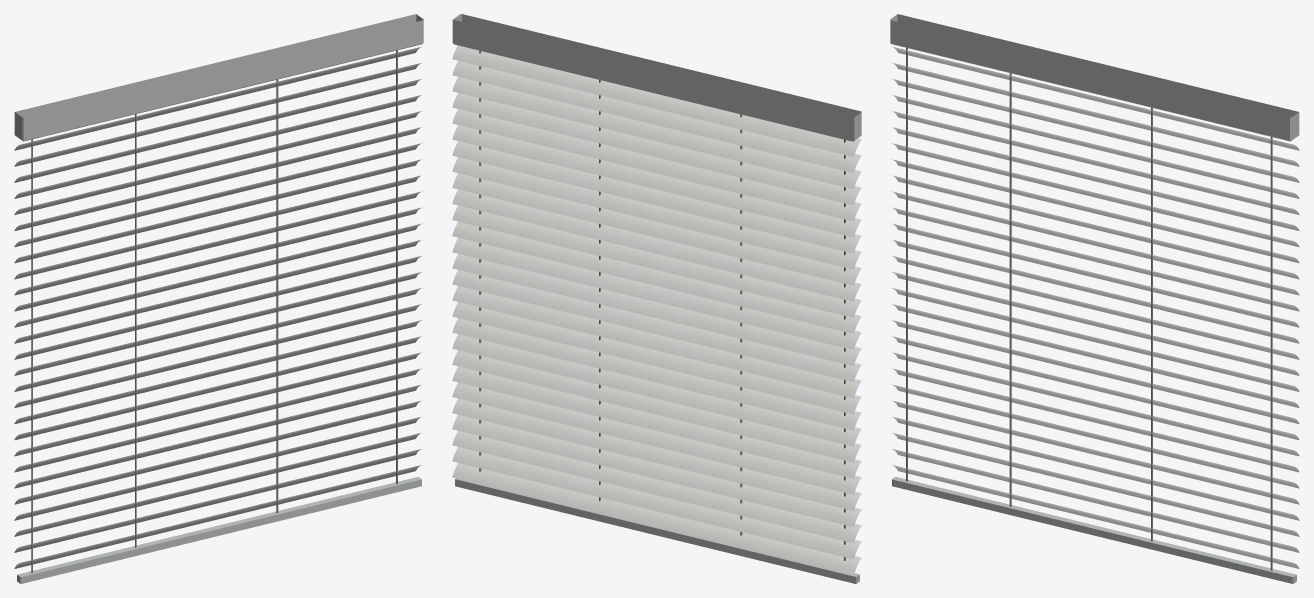
The model's file is SM_Shades_Halfway.fbx.
3 renders of one model, left to right at view 1: azimuth 30°, elevation 25°; view 2: azimuth 150°, elevation 25°; view 3: azimuth 330°, elevation 25°, orthographic.
Visible parts, largest first — view 1: SM_Shades_Halfway; view 2: SM_Shades_Halfway; view 3: SM_Shades_Halfway.
Boxes of the visible parts, x1,y1,x2,y2 form: SM_Shades_Halfway: (14, 14, 423, 583); SM_Shades_Halfway: (452, 14, 861, 583); SM_Shades_Halfway: (890, 14, 1299, 583).
Size of the model in its own units: 114 by 4.32 by 127.
1 material, 1 textured.
